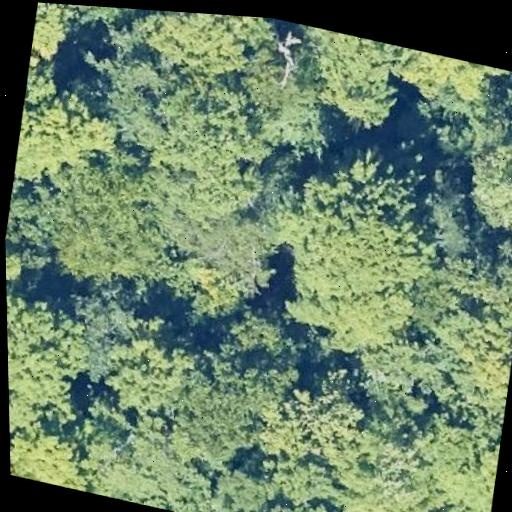tree-top: (256, 136, 456, 371), (128, 79, 283, 236), (179, 313, 313, 478), (6, 274, 115, 453), (38, 148, 166, 300), (11, 60, 130, 199), (94, 414, 253, 512), (130, 9, 302, 98), (92, 305, 206, 427), (250, 370, 378, 478), (341, 326, 443, 458), (419, 237, 512, 378), (166, 194, 282, 304), (295, 25, 410, 131), (383, 44, 507, 124), (9, 422, 133, 500), (411, 70, 506, 167), (411, 412, 503, 512), (453, 110, 512, 254), (4, 174, 74, 276), (336, 460, 444, 512), (243, 474, 349, 512), (36, 2, 135, 35), (27, 2, 74, 70), (435, 509, 489, 512)
